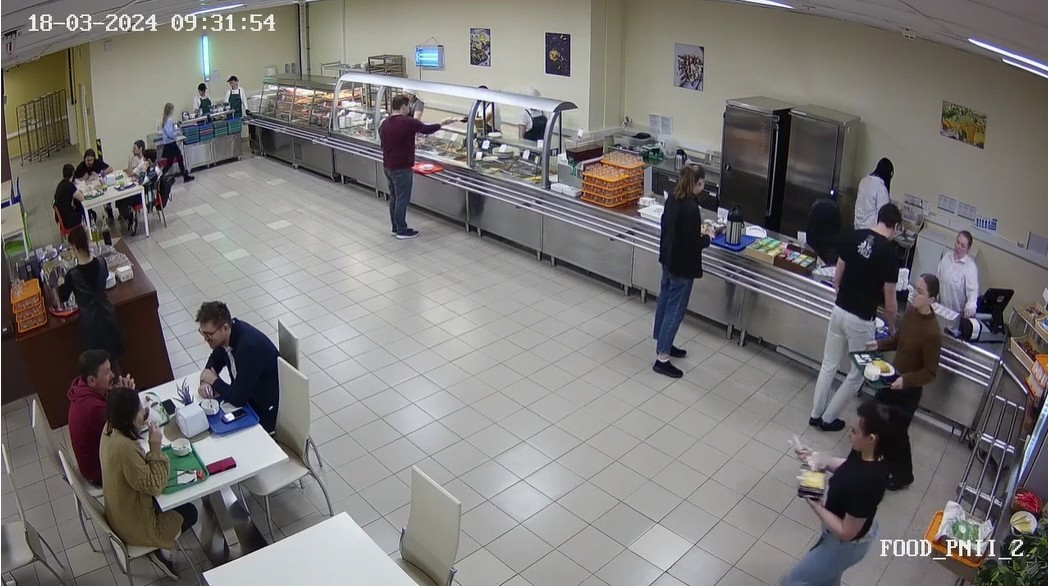Na_Kasse: (738, 188, 929, 406)
Ne_v_Ocheredi: (793, 264, 962, 456), (783, 404, 896, 586), (55, 229, 115, 334)
Personal: (823, 148, 900, 225), (940, 222, 984, 318), (511, 79, 558, 148), (461, 80, 504, 137), (214, 66, 250, 119), (187, 76, 216, 119)
Vybiraet: (628, 155, 717, 390), (369, 85, 441, 245), (151, 97, 191, 184)
Za_Stolom: (13, 340, 129, 493), (190, 293, 292, 431), (98, 384, 174, 546), (50, 164, 91, 234), (135, 152, 167, 205), (74, 142, 113, 182), (126, 134, 147, 182)
